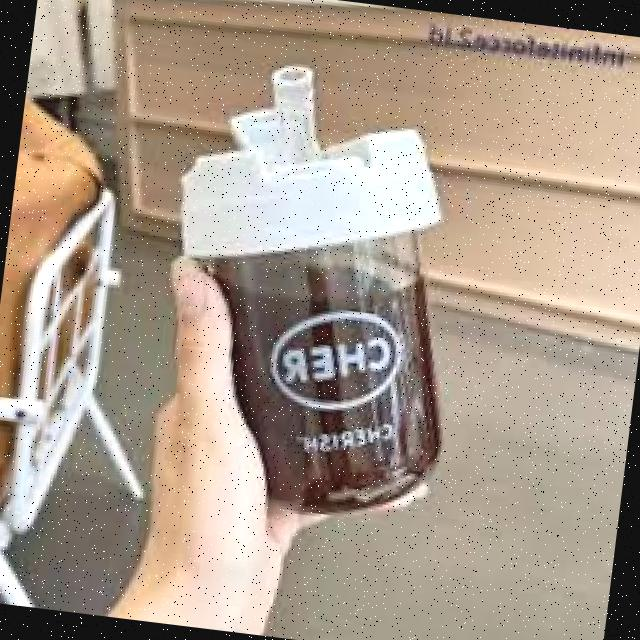bottle: (156, 24, 472, 528)
